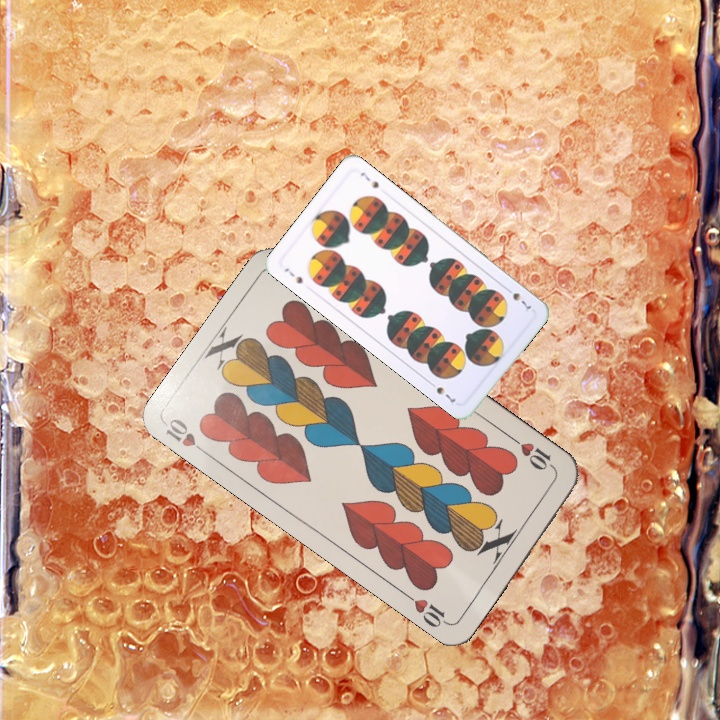H10: (161, 414, 213, 459), (508, 433, 559, 474)
S7: (501, 283, 534, 312), (280, 264, 305, 286)
